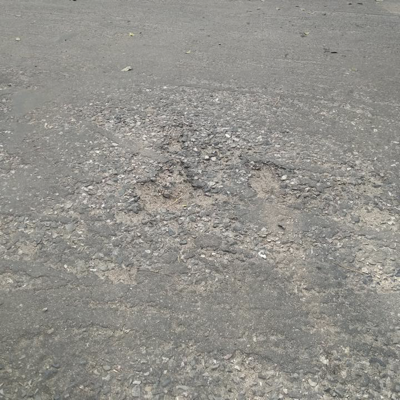pothole: (129, 161, 213, 212), (245, 163, 284, 199)
